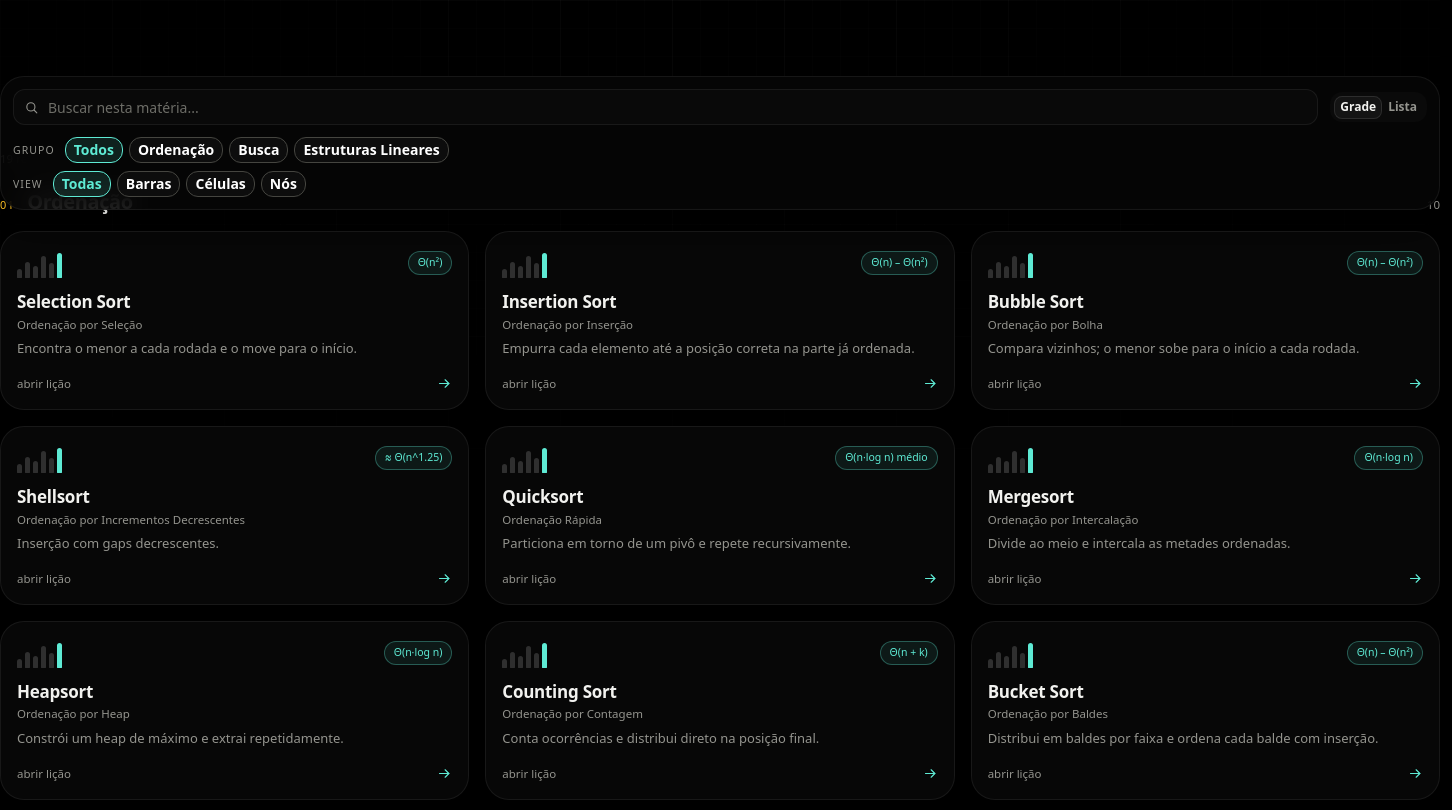
AlgorithmBrowser › filters entries by group
Click the button "Busca" at (259, 150), box [229,137,288,163]
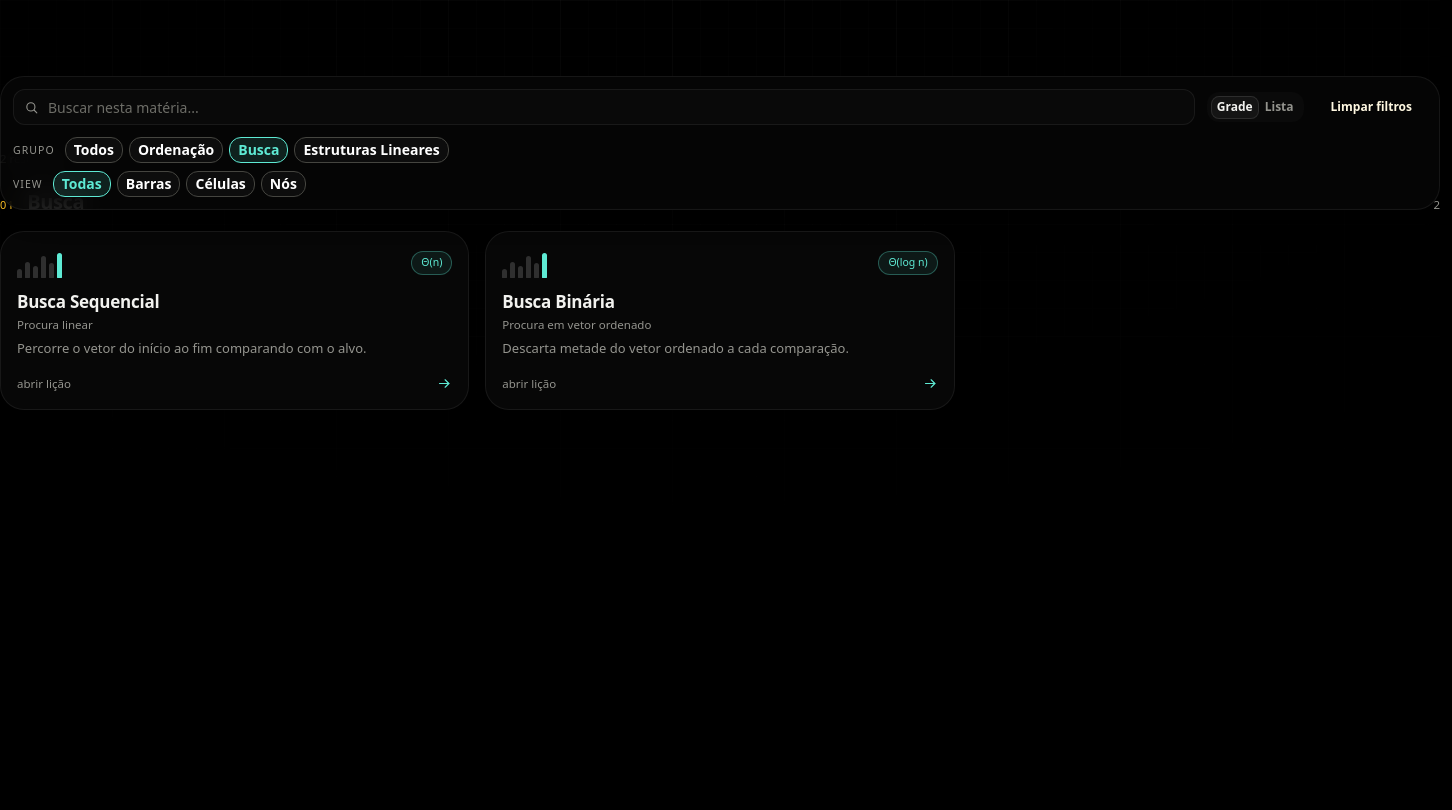
Expected: the heading "Busca Binária" is shown, [502,290,615,313]
Expected: the link "Quicksort" is gone
